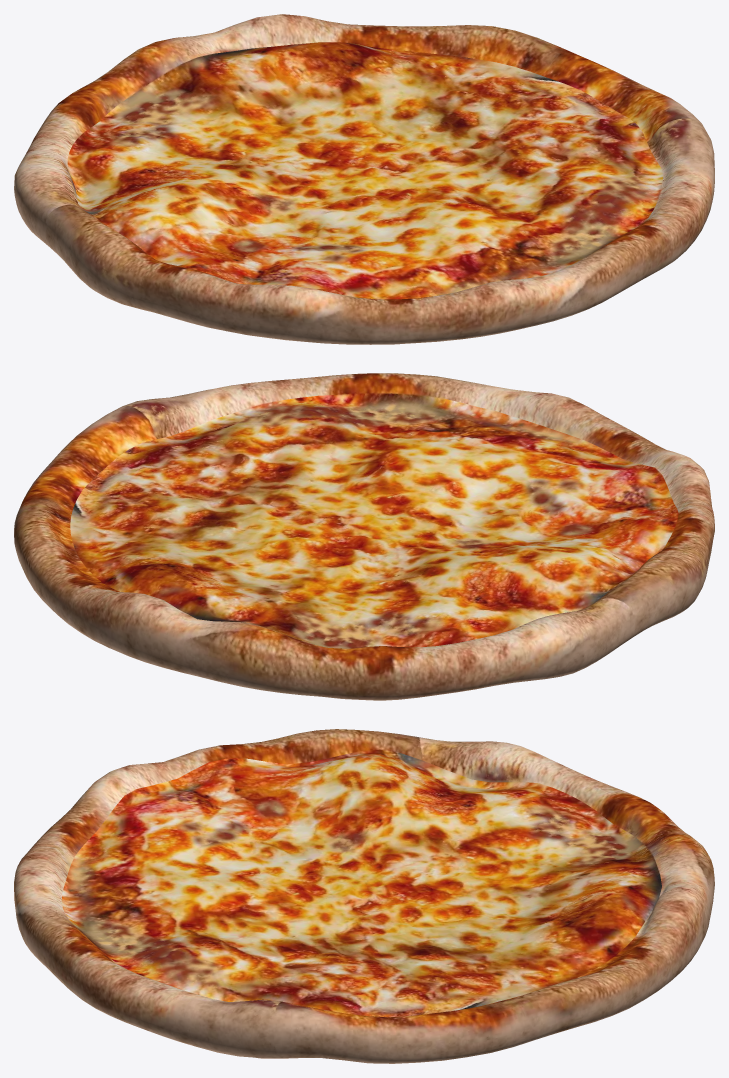
File: pizza.glb
3 views of the same model, one above another, from view 1: azimuth 30°, elevation 25°; view 2: azimuth 150°, elevation 25°; view 3: azimuth 270°, elevation 25° (orthographic).
Parts seen in each view (by area): view 1: piza_low_01:Group259; view 2: piza_low_01:Group259; view 3: piza_low_01:Group259.
Boxes of the visible parts, x1,y1,x2,y2 form: piza_low_01:Group259: (14, 14, 714, 344); piza_low_01:Group259: (14, 373, 714, 700); piza_low_01:Group259: (14, 729, 714, 1063).
Bounding box in the file's own units: 49.15 × 4.96 × 49.03.
1 material, 1 textured.
